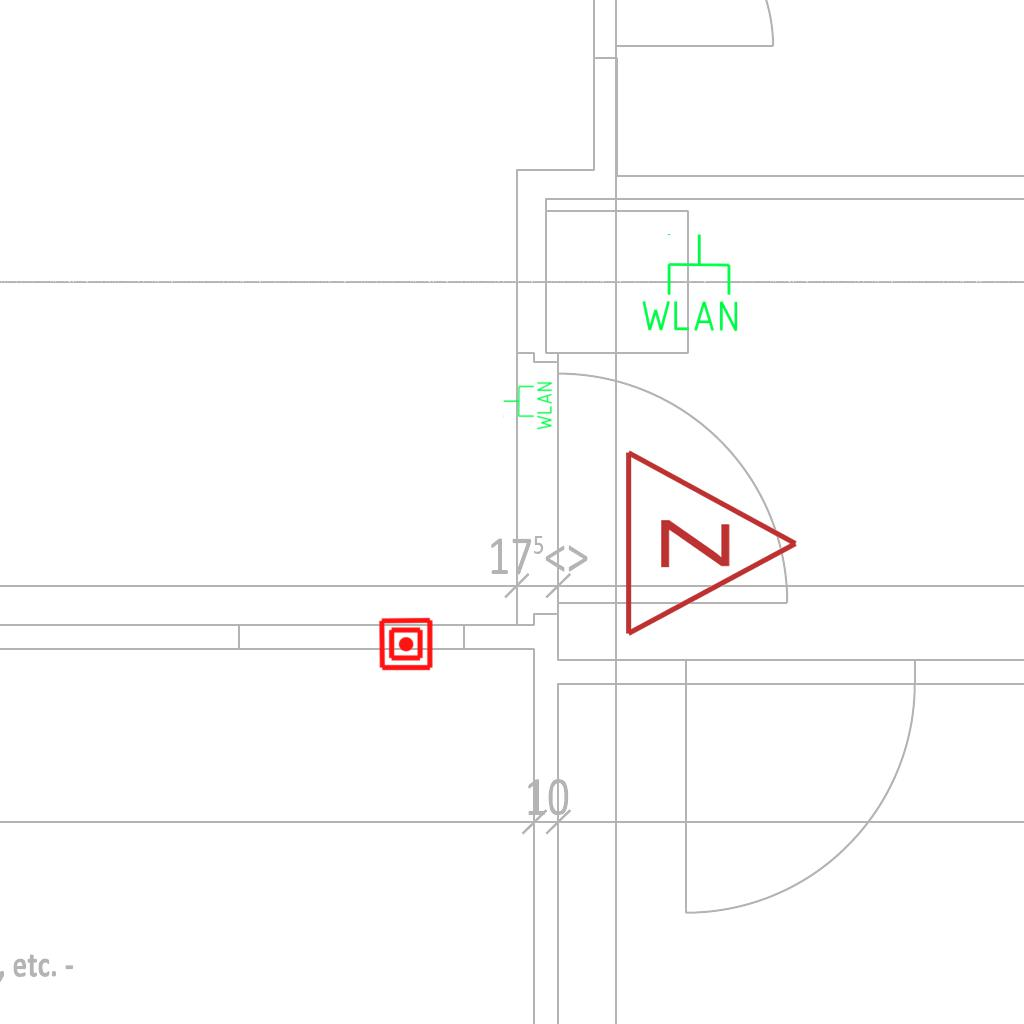NAM-Nichtautomatischer_Melder: (378, 616, 434, 672)
WLAN: (637, 231, 742, 335), (502, 380, 554, 432)
Zimmersignalleuchte: (611, 443, 811, 639)
